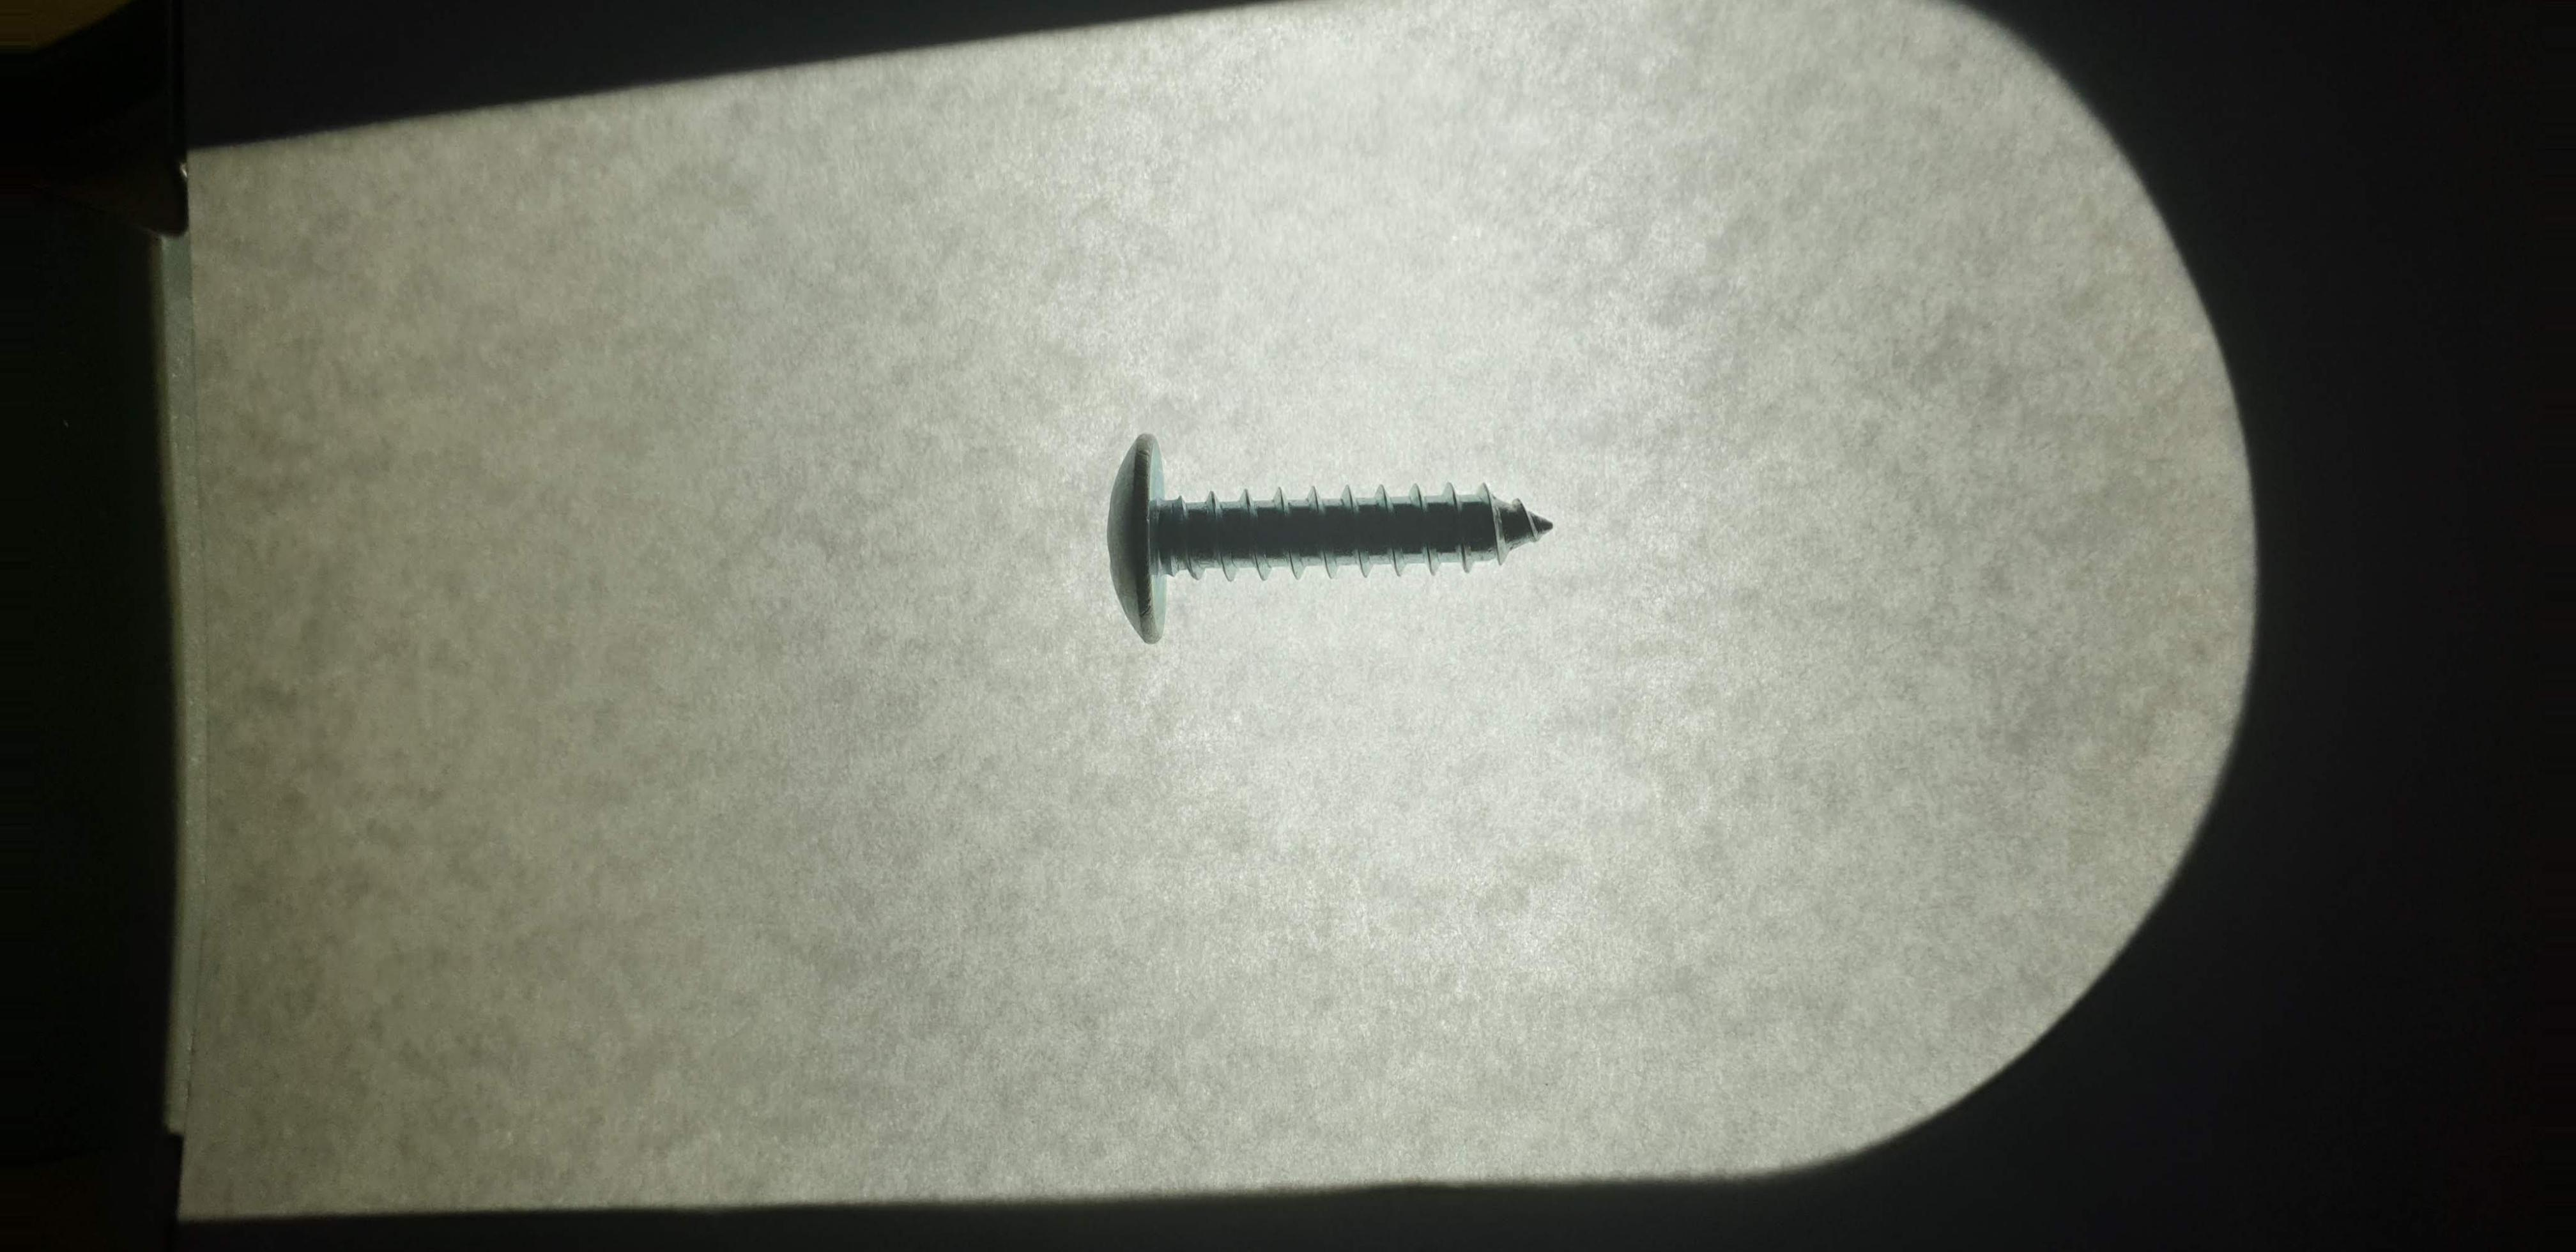S002: (1071, 386, 1587, 690)
